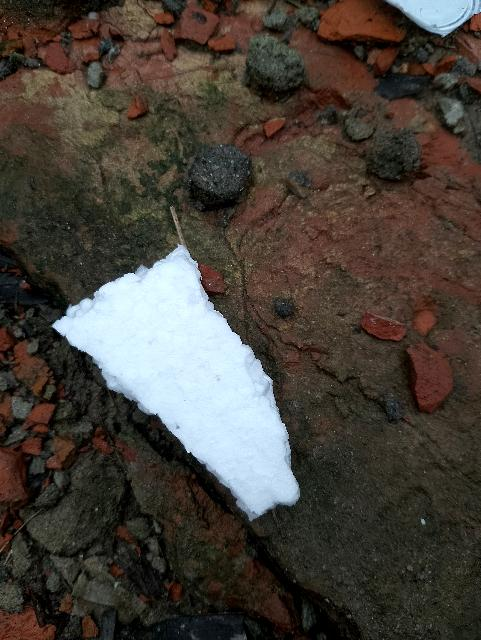cocksheet: (51, 222, 359, 565)
